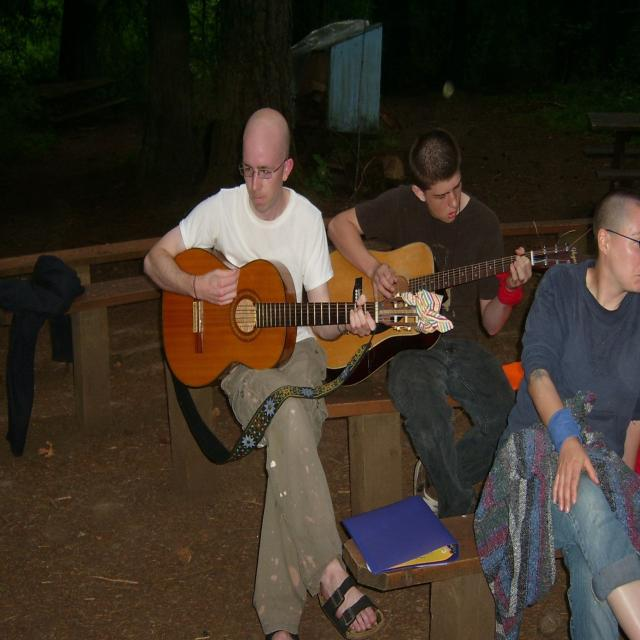guitar: (302, 240, 577, 387), (158, 248, 422, 391)
